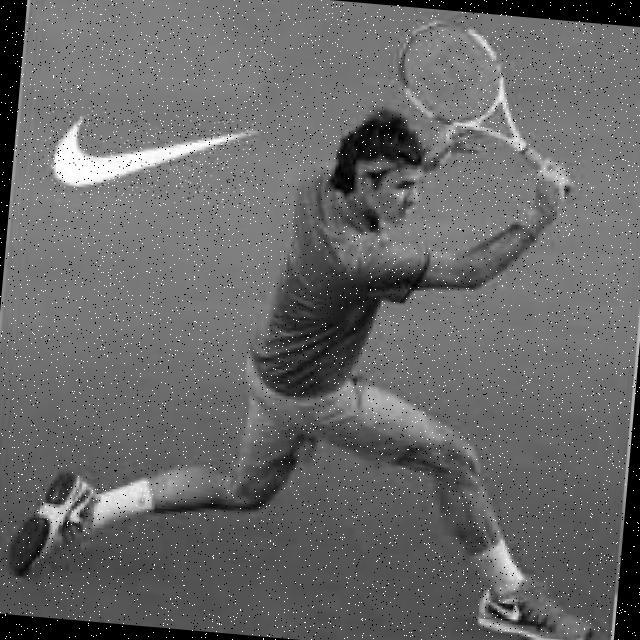Nike: (38, 101, 257, 210)
